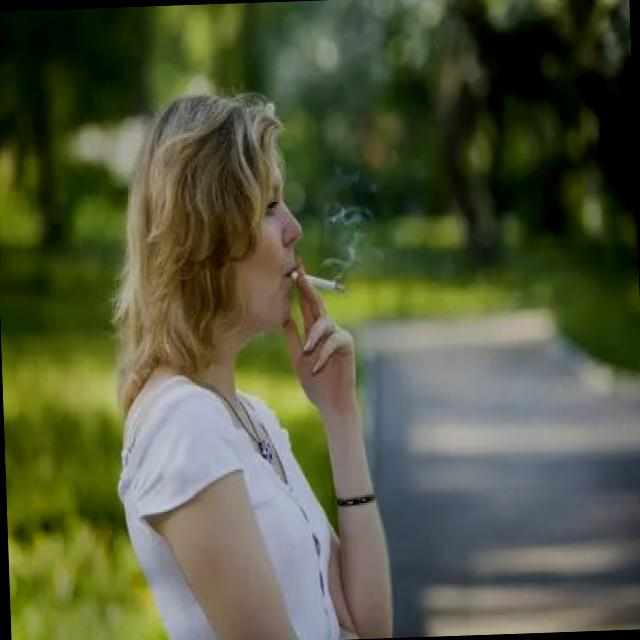smoke: (279, 261, 348, 303)
